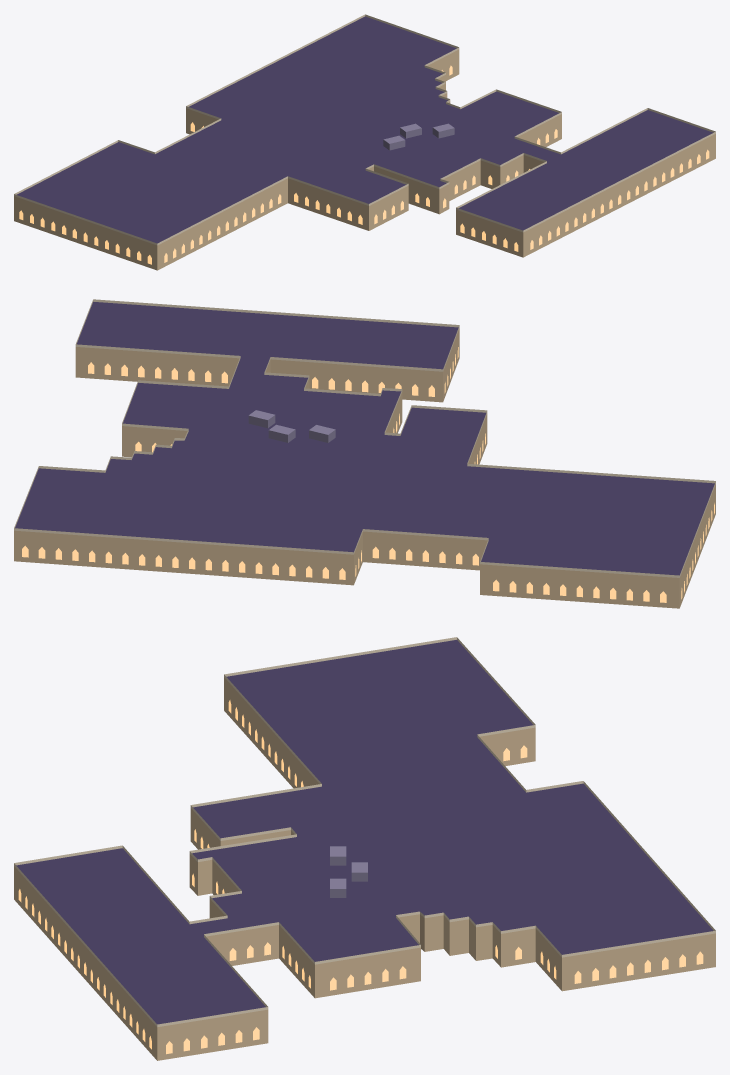
The model's file is b-050-elborn-college.glb.
3 views of the same model, one above another, from view 1: azimuth 30°, elevation 25°; view 2: azimuth 150°, elevation 25°; view 3: azimuth 270°, elevation 25° (orthographic). The views are drawn at different scales.
Visible parts, largest first — view 1: campus/b-050-elborn-college-0; view 2: campus/b-050-elborn-college-0; view 3: campus/b-050-elborn-college-0.
Part boxes in pixels (x1,y1,x2,y2): campus/b-050-elborn-college-0: (14, 14, 715, 270); campus/b-050-elborn-college-0: (14, 299, 715, 608); campus/b-050-elborn-college-0: (14, 637, 715, 1060).
Bounding box in the file's own units: 168 × 8.6 × 128.
